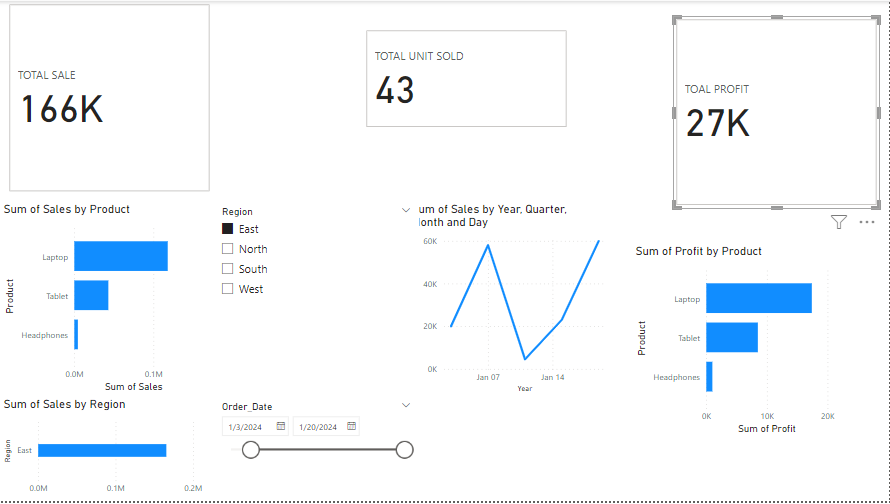

The dashboard page shown, as its layout file describes it:
{"tool":"powerbi","page":{"name":"Page 1","canvas":[1280,720],"ordinal":0},"visuals":[{"type":"lineChart","fields":{"Y":["Sum(Sales_Data_PowerBI_Beginner.Sales)"],"Category":["Sales_Data_PowerBI_Beginner.Order_Date.Variation.Date Hierarchy.Year","Sales_Data_PowerBI_Beginner.Order_Date.Variation.Date Hierarchy.Quarter","Sales_Data_PowerBI_Beginner.Order_Date.Variation.Date Hierarchy.Month","Sales_Data_PowerBI_Beginner.Order_Date.Variation.Date Hierarchy.Day"]},"box":[959,342.7,296.6,279.4],"z":0},{"type":"clusteredBarChart","fields":{"Category":["Sales_Data_PowerBI_Beginner.Product"],"Y":["Sum(Sales_Data_PowerBI_Beginner.Sales)"]},"box":[0,289,297,279],"z":1},{"type":"barChart","fields":{"Category":["Sales_Data_PowerBI_Beginner.Region"],"Y":["Sum(Sales_Data_PowerBI_Beginner.Sales)"]},"box":[0,570,297,150],"z":2},{"type":"barChart","fields":{"Category":["Sales_Data_PowerBI_Beginner.Product"],"Y":["Sum(Sales_Data_PowerBI_Beginner.Profit)"]},"box":[586.1,324,296.6,279.4],"z":3},{"type":"slicer","fields":{"Values":["Sales_Data_PowerBI_Beginner.Region"]},"box":[307,289,297,279],"z":4},{"type":"slicer","fields":{"Values":["Sales_Data_PowerBI_Beginner.Order_Date"]},"box":[307,570,297,150],"z":5},{"type":"cardVisual","fields":{"Data":["Sum(Sales_Data_PowerBI_Beginner.Sales)"]},"box":[570.2,0,298.1,279.4],"z":6},{"type":"cardVisual","fields":{"Data":["Sum(Sales_Data_PowerBI_Beginner.Profit)"]},"box":[982.1,11.5,298.1,277.9],"z":7},{"type":"cardVisual","fields":{"Data":["Sum(Sales_Data_PowerBI_Beginner.Quantity)"]},"box":[125.3,76.3,298.1,149.8],"z":8}]}

Visuals, with their boxes in screenshot pixels (x1, y1, x2, y2), scaled from the page's 1280x720 canvas onto the 890x504 screenshot:
lineChart - Sum(Sales_Data_PowerBI_Beginner.Sales) x Sales_Data_PowerBI_Beginner.Order_Date.Variation.Date Hierarchy.Year: (left=667, top=240, right=873, bottom=435)
clusteredBarChart - Sales_Data_PowerBI_Beginner.Product x Sum(Sales_Data_PowerBI_Beginner.Sales): (left=0, top=202, right=207, bottom=398)
barChart - Sales_Data_PowerBI_Beginner.Region x Sum(Sales_Data_PowerBI_Beginner.Sales): (left=0, top=399, right=207, bottom=503)
barChart - Sales_Data_PowerBI_Beginner.Product x Sum(Sales_Data_PowerBI_Beginner.Profit): (left=408, top=227, right=614, bottom=422)
slicer - Sales_Data_PowerBI_Beginner.Region: (left=213, top=202, right=420, bottom=398)
slicer - Sales_Data_PowerBI_Beginner.Order_Date: (left=213, top=399, right=420, bottom=503)
cardVisual - Sum(Sales_Data_PowerBI_Beginner.Sales): (left=396, top=0, right=604, bottom=196)
cardVisual - Sum(Sales_Data_PowerBI_Beginner.Profit): (left=683, top=8, right=889, bottom=203)
cardVisual - Sum(Sales_Data_PowerBI_Beginner.Quantity): (left=87, top=53, right=294, bottom=158)
